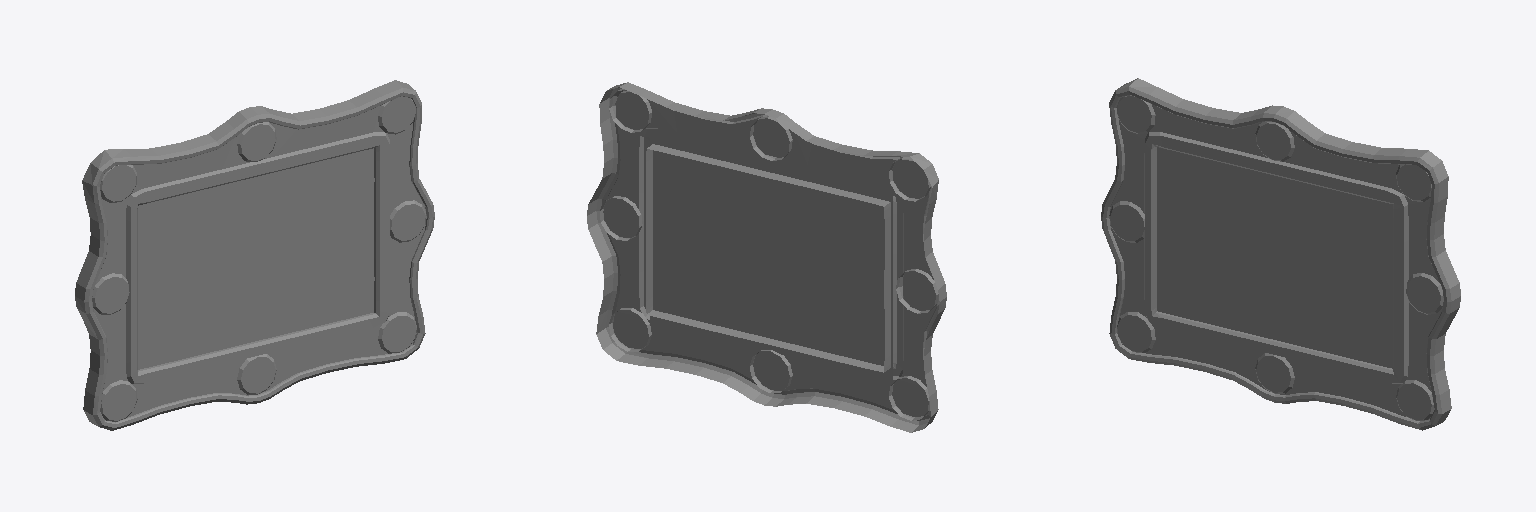
File: Wall_Picture_A.obj
The picture shows the model from 3 angles: view 1: azimuth 30°, elevation 25°; view 2: azimuth 150°, elevation 25°; view 3: azimuth 330°, elevation 25°; orthographic projection.
Parts seen in each view (by area): view 1: Wall_Picture_A; view 2: Wall_Picture_A; view 3: Wall_Picture_A.
Boxes of the visible parts, <box> form: Wall_Picture_A: <box>75,80,434,430</box>; Wall_Picture_A: <box>587,82,946,432</box>; Wall_Picture_A: <box>1101,78,1460,430</box>.
Size of the model in its own units: 154 by 121 by 7.42.